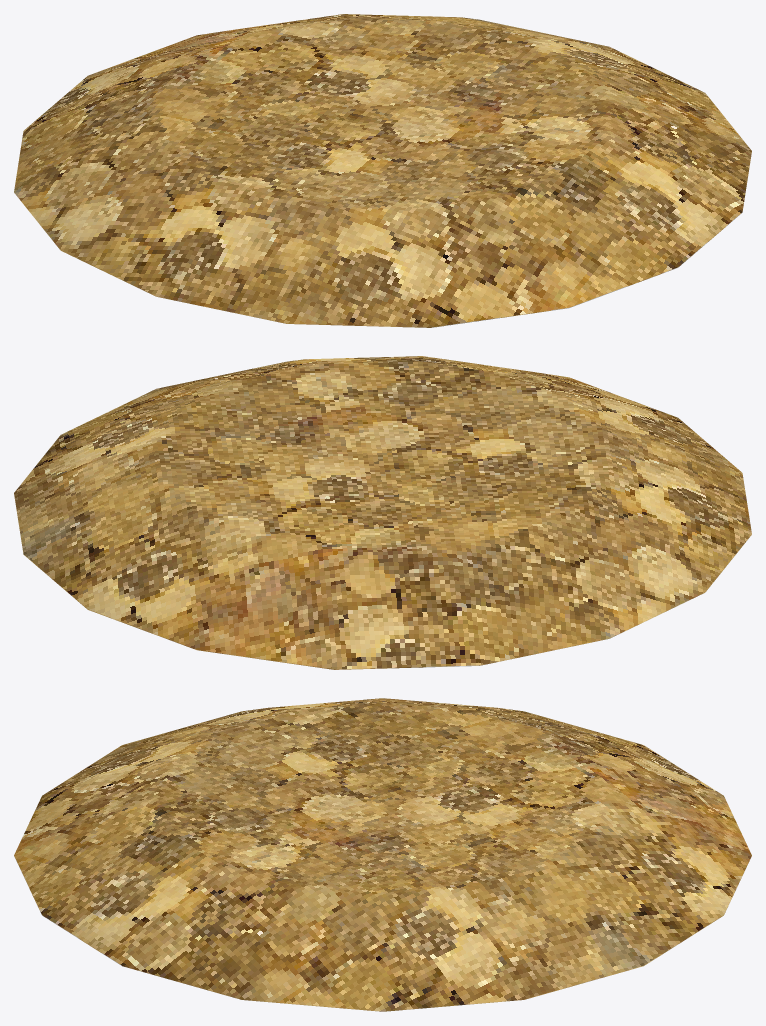
Rendered from Coin_Pile.gltf.
3 renders of one model, top to bottom at view 1: azimuth 30°, elevation 25°; view 2: azimuth 150°, elevation 25°; view 3: azimuth 270°, elevation 25°, orthographic.
Parts seen in each view (by area): view 1: Coin_Pile; view 2: Coin_Pile; view 3: Coin_Pile.
Boxes of the visible parts, x1,y1,x2,y2 form: Coin_Pile: [14, 14, 751, 327]; Coin_Pile: [14, 356, 751, 669]; Coin_Pile: [14, 698, 751, 1011].
Bounding box in the file's own units: 3.65 × 0.3077 × 3.65.
Materials: 1 (1 with a texture image).
